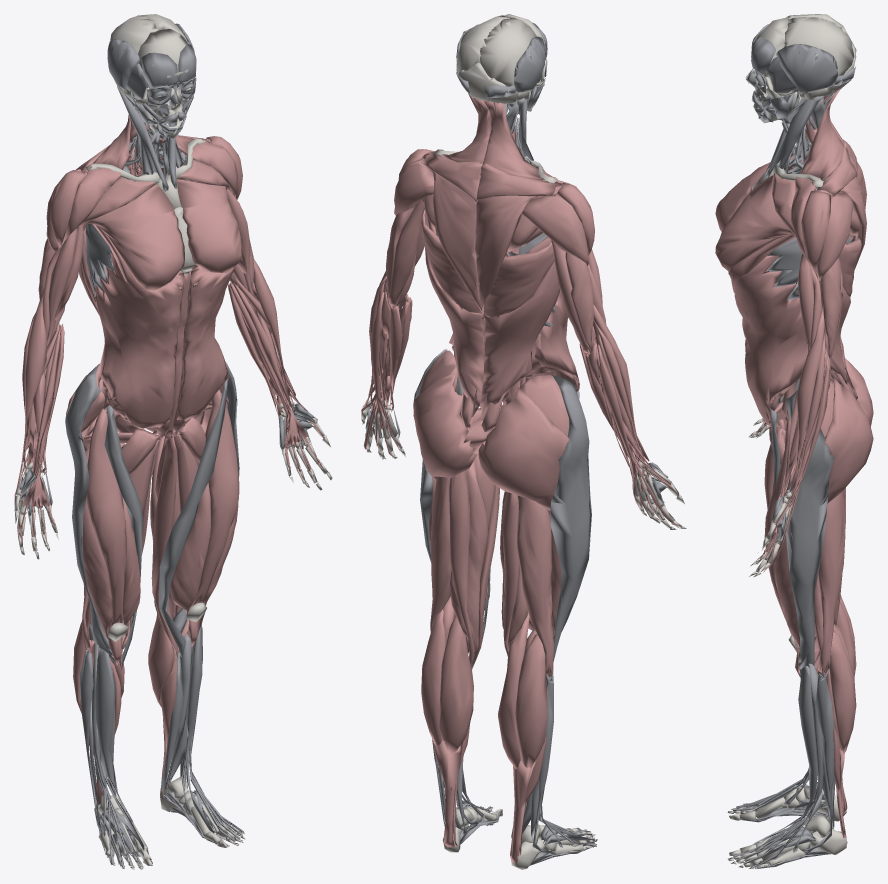
File: femenino-a.meshopt.glb
3 views of the same model, side by side, from view 1: azimuth 30°, elevation 25°; view 2: azimuth 150°, elevation 25°; view 3: azimuth 270°, elevation 25° (orthographic). The views are drawn at different scales.
Parts seen in each view (by area): view 1: base_musculos_der, base_musculos_izq, core_der, cuadriceps_der, pecho_der, cuadriceps_izq, antebrazos_der, core_izq, antebrazos_izq, pecho_izq, base_huesos_der, aductores_izq (+12 smaller); view 2: espalda_der, base_musculos_der, espalda_izq, femorales_izq, pantorrillas_izq, femorales_der, pantorrillas_der, gluteos_der, base_huesos_der, gluteos_izq, antebrazos_der, hombros_der (+13 smaller); view 3: base_musculos_izq, core_izq, base_huesos_izq, pecho_izq, espalda_izq, antebrazos_izq, hombros_izq, femorales_izq, gluteos_izq, pantorrillas_izq, cuadriceps_izq, base_musculos_der (+10 smaller).
Part boxes in pixels (<box>): base_musculos_der: <box>19,39,178,865</box>; base_musculos_izq: <box>130,23,314,844</box>; core_der: <box>94,253,183,438</box>; cuadriceps_der: <box>82,408,140,665</box>; pecho_der: <box>78,177,184,298</box>; cuadriceps_izq: <box>170,389,239,646</box>; antebrazos_der: <box>14,288,64,549</box>; core_izq: <box>172,265,234,434</box>; antebrazos_izq: <box>228,258,325,483</box>; pecho_izq: <box>176,159,241,279</box>; base_huesos_der: <box>14,15,181,869</box>; aductores_izq: <box>151,405,211,658</box>; espalda_der: <box>476,101,561,409</box>; base_musculos_der: <box>484,22,668,865</box>; espalda_izq: <box>421,95,490,407</box>; femorales_izq: <box>430,460,487,664</box>; pantorrillas_izq: <box>421,596,473,847</box>; femorales_der: <box>500,491,554,676</box>; pantorrillas_der: <box>498,612,547,863</box>; gluteos_der: <box>478,387,569,510</box>; base_huesos_der: <box>479,17,686,869</box>; gluteos_izq: <box>413,372,495,480</box>; antebrazos_der: <box>579,304,679,528</box>; hombros_der: <box>507,169,594,265</box>; base_musculos_izq: <box>732,37,855,868</box>; core_izq: <box>728,255,808,426</box>; base_huesos_izq: <box>728,17,854,868</box>; pecho_izq: <box>715,173,795,283</box>; espalda_izq: <box>800,89,866,384</box>; antebrazos_izq: <box>754,307,830,572</box>; hombros_izq: <box>791,176,860,281</box>; femorales_izq: <box>814,488,845,674</box>; gluteos_izq: <box>824,377,873,503</box>; pantorrillas_izq: <box>818,624,856,843</box>; cuadriceps_izq: <box>764,419,819,677</box>; base_musculos_der: <box>733,24,856,822</box>.
Size of the model in its own units: 0.6715 by 1.65 by 0.2876.
